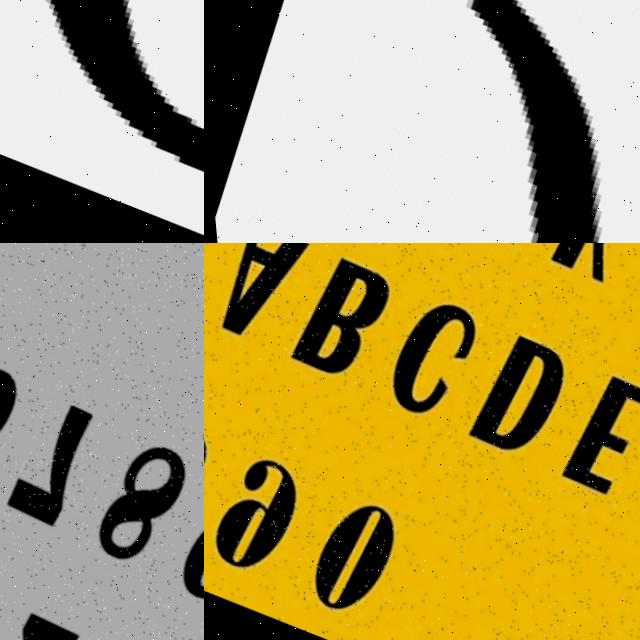0: (266, 474, 425, 640)
6: (0, 338, 40, 513)
7: (0, 365, 130, 555)
8: (49, 415, 204, 604), (204, 395, 227, 552)
9: (204, 431, 323, 596), (136, 444, 204, 639)
J: (264, 0, 640, 243)
